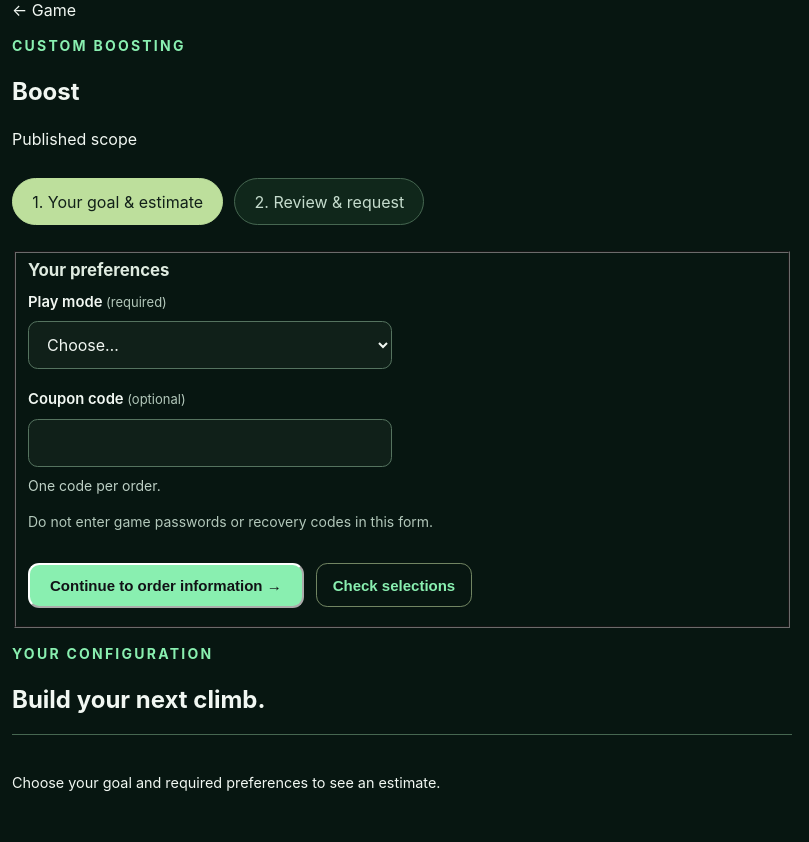
Test: requires validation before review and preserves private in-memory details through editing
The image size is (809, 842).
expect the dropdown labelled "Play mode (required)" is shown: met, box [28,321,392,369]
Click the button "Continue to order information →": click(166, 585) [28,563,304,608]
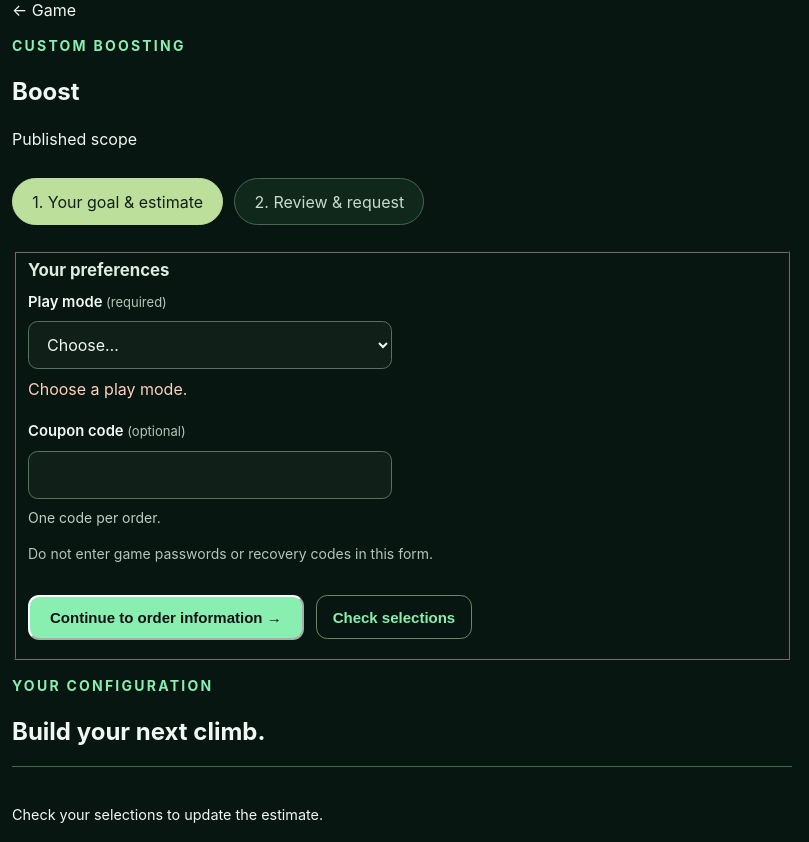
expect the field labelled "Instructions" is not shown: met
expect the text "Choose a play mode." is shown: met, box [28,379,187,399]
Select "Play together" in the dropdown labelled "Play mode (required)": (210, 345) [28,321,392,369]
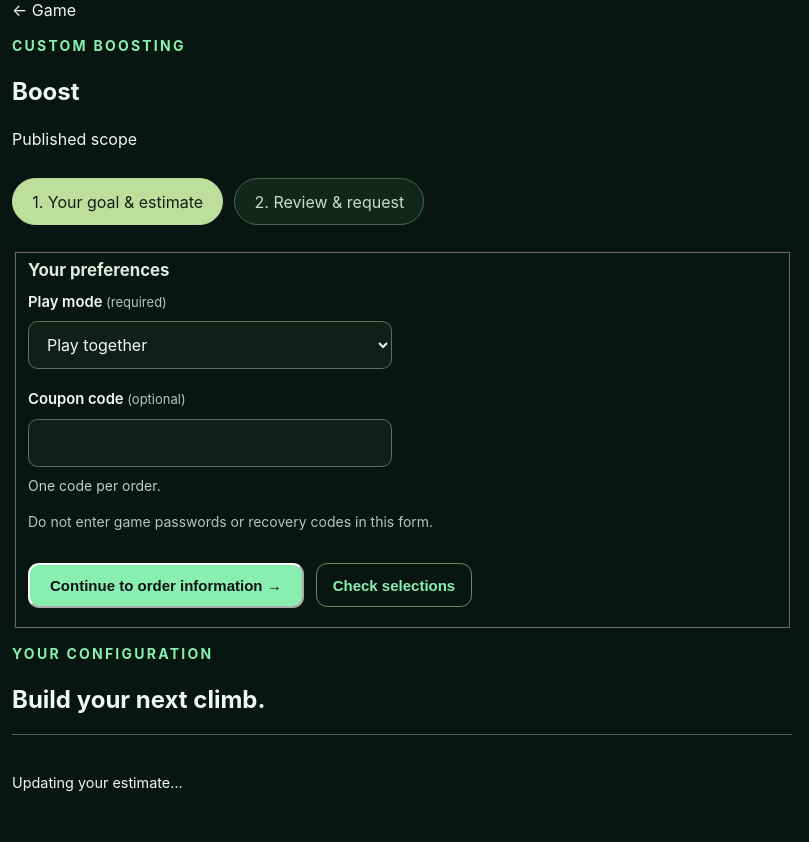
Click the button "Continue to order information →": click(166, 585) [28,563,304,608]
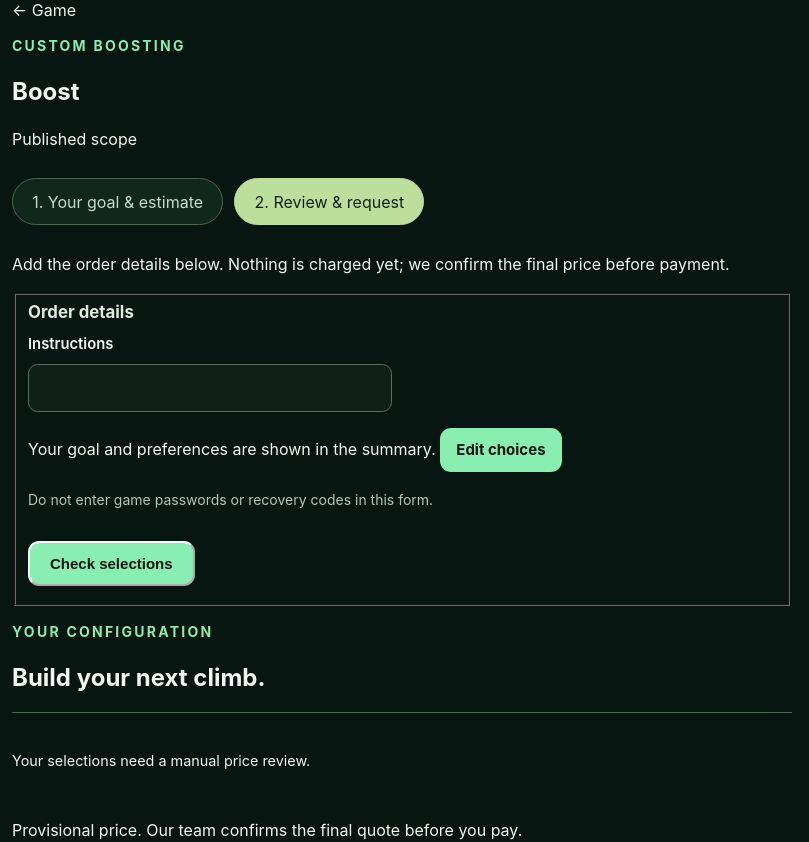
expect the field labelled "Play mode (required)" is not shown: met
expect the element named "Price estimate" shows "manual price review": met, box [12,752,310,769]
In the field labelled "Instructions": (210, 388) [28,364,392,412], type "Private ordinary note"
Click the button "Edit choices": click(501, 450) [440,428,562,472]
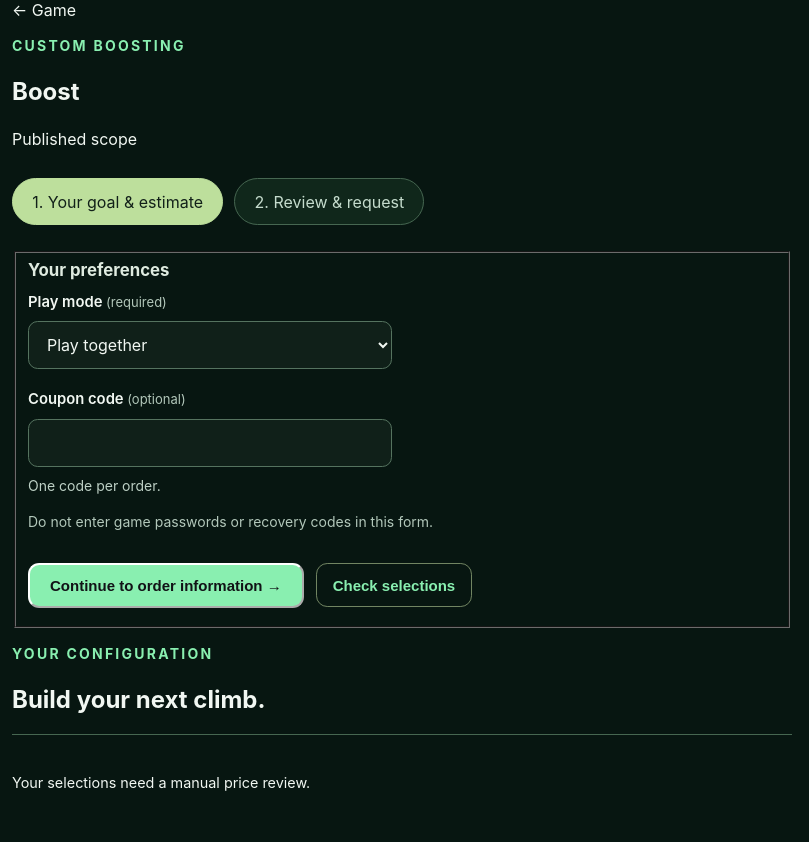
Select "On my account" in the dropdown labelled "Play mode (required)": (210, 345) [28,321,392,369]
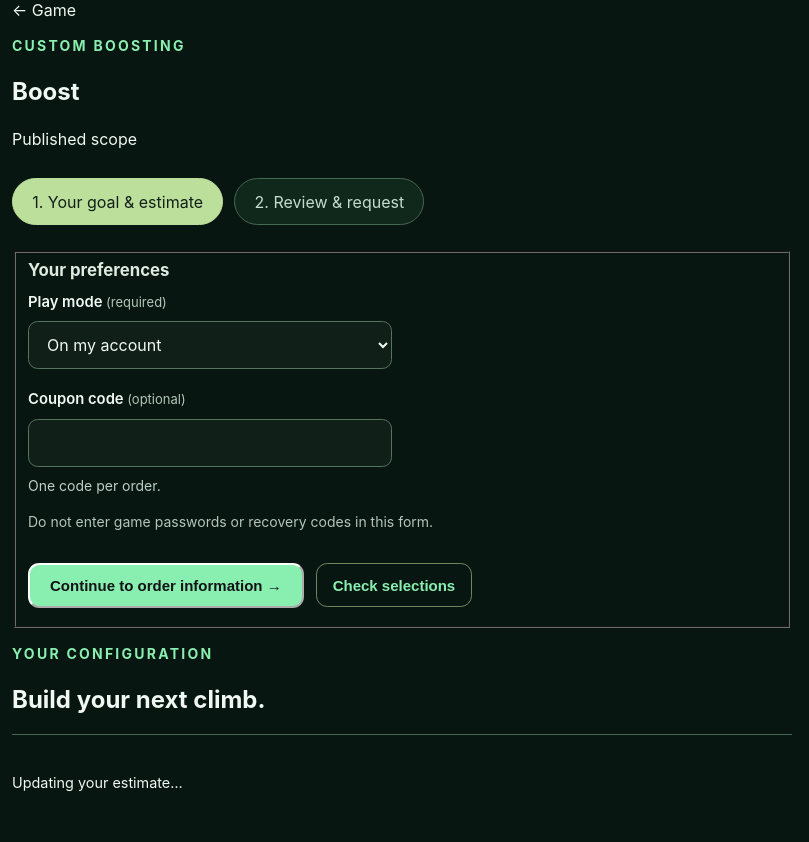
Click the button "Continue to order information →": click(166, 585) [28,563,304,608]
(page scrolled)
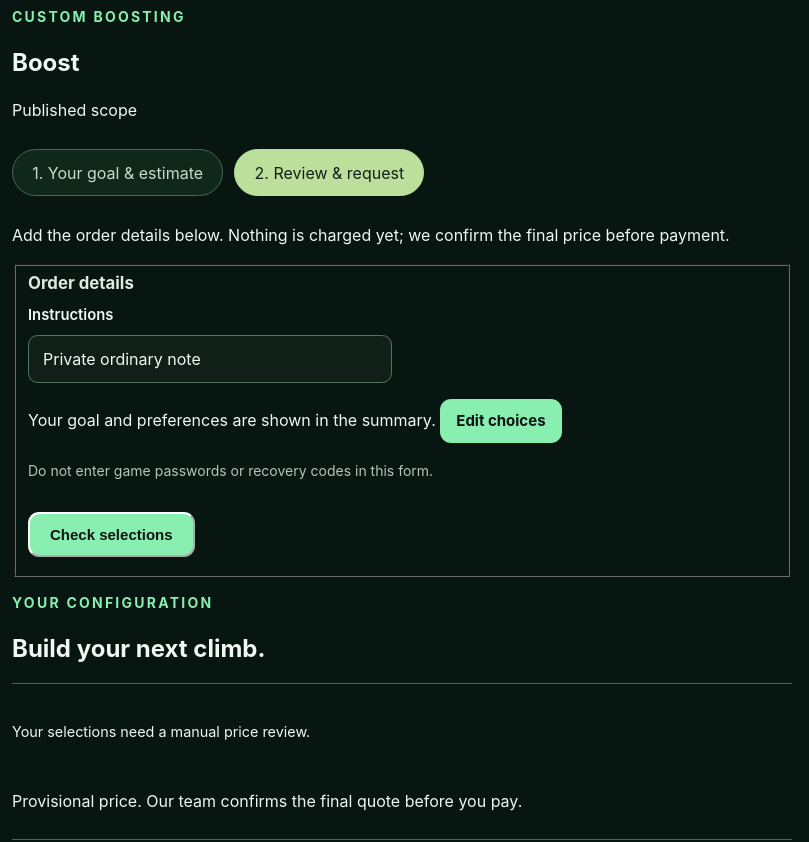
expect the field labelled "Instructions" holds "Private ordinary note": met, box [28,335,392,383]
